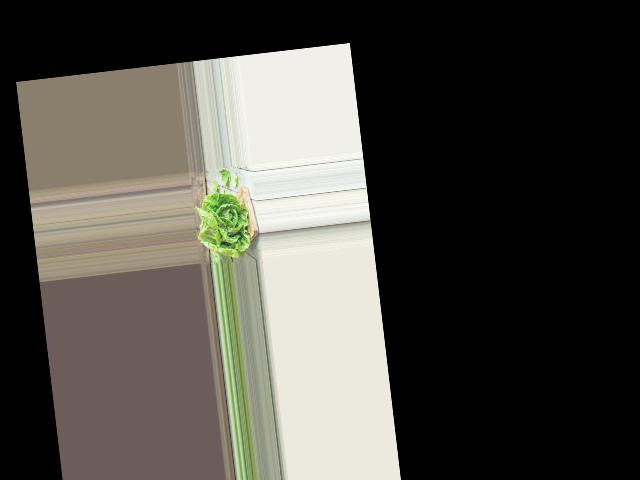lettuce: (194, 192, 255, 263)
